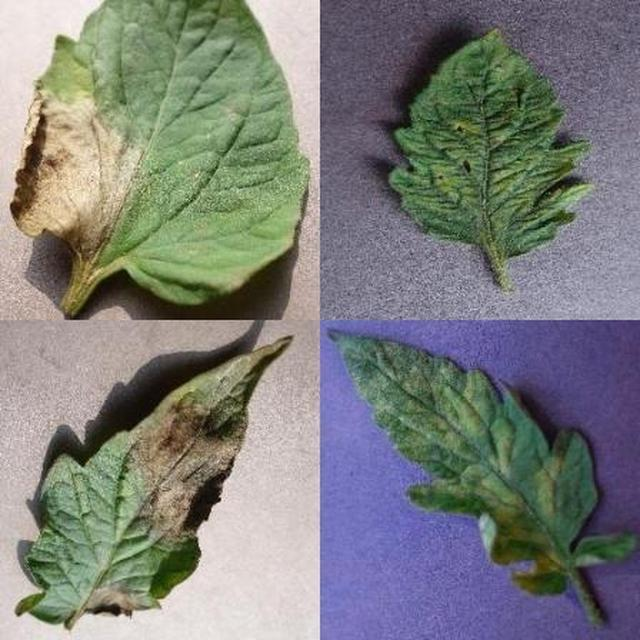Late Blight Leaf: (221, 202, 640, 640)
